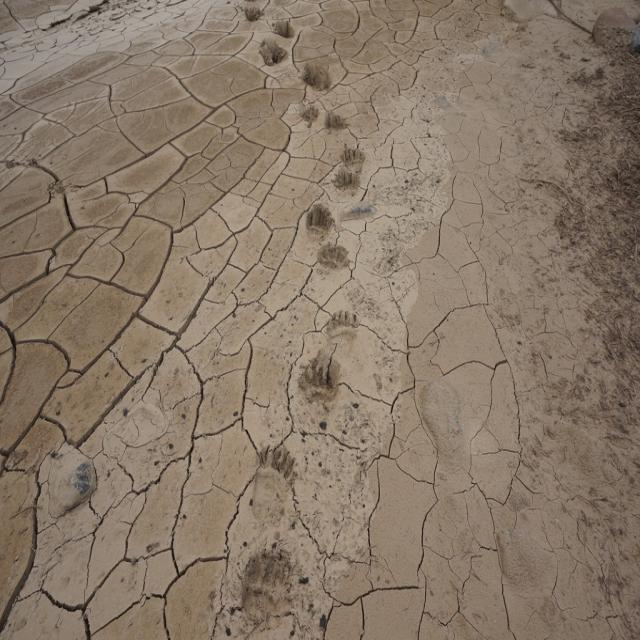bear: (245, 551, 288, 617), (256, 443, 294, 516), (302, 357, 336, 407), (329, 306, 358, 352)
